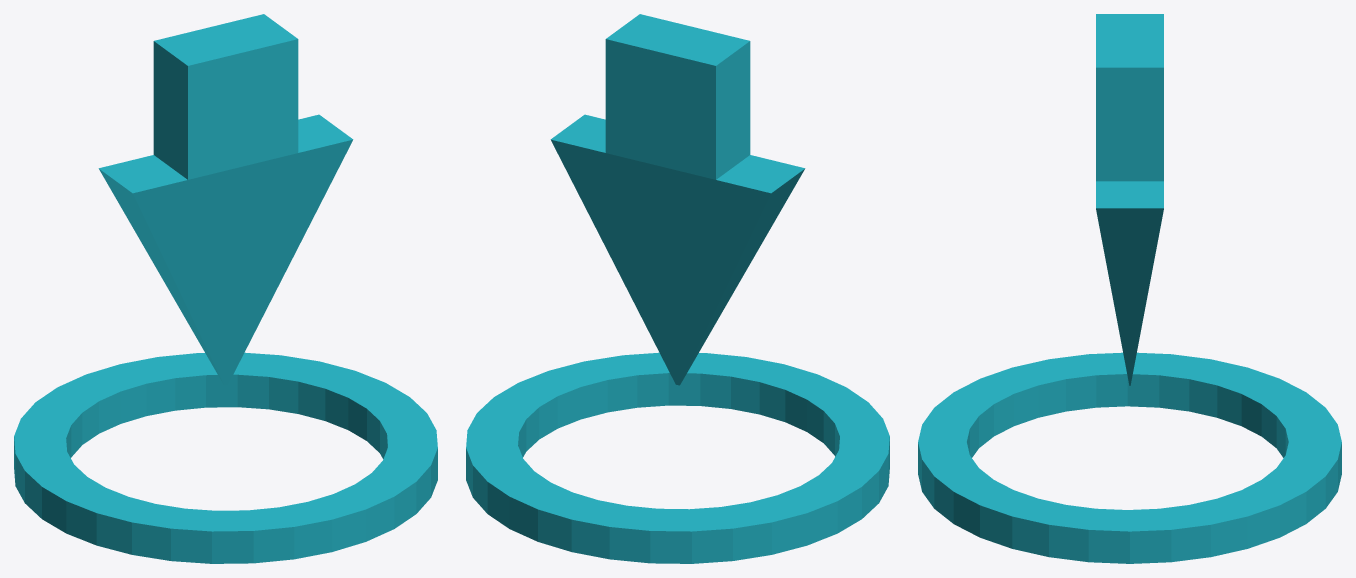
File: arrowandcircle.fbx
3 renders of one model, left to right at view 1: azimuth 30°, elevation 25°; view 2: azimuth 150°, elevation 25°; view 3: azimuth 270°, elevation 25°, orthographic.
Parts seen in each view (by area): view 1: Cube, Cylinder; view 2: Cube, Cylinder; view 3: Cylinder, Cube.
Boxes of the visible parts, x1,y1,x2,y2 form: Cube: (98,14,353,385); Cylinder: (14,352,437,563); Cube: (550,14,805,385); Cylinder: (466,352,889,563); Cylinder: (918,352,1341,563); Cube: (1096,14,1163,385).
Size of the model in its own units: 100 by 113 by 100.
